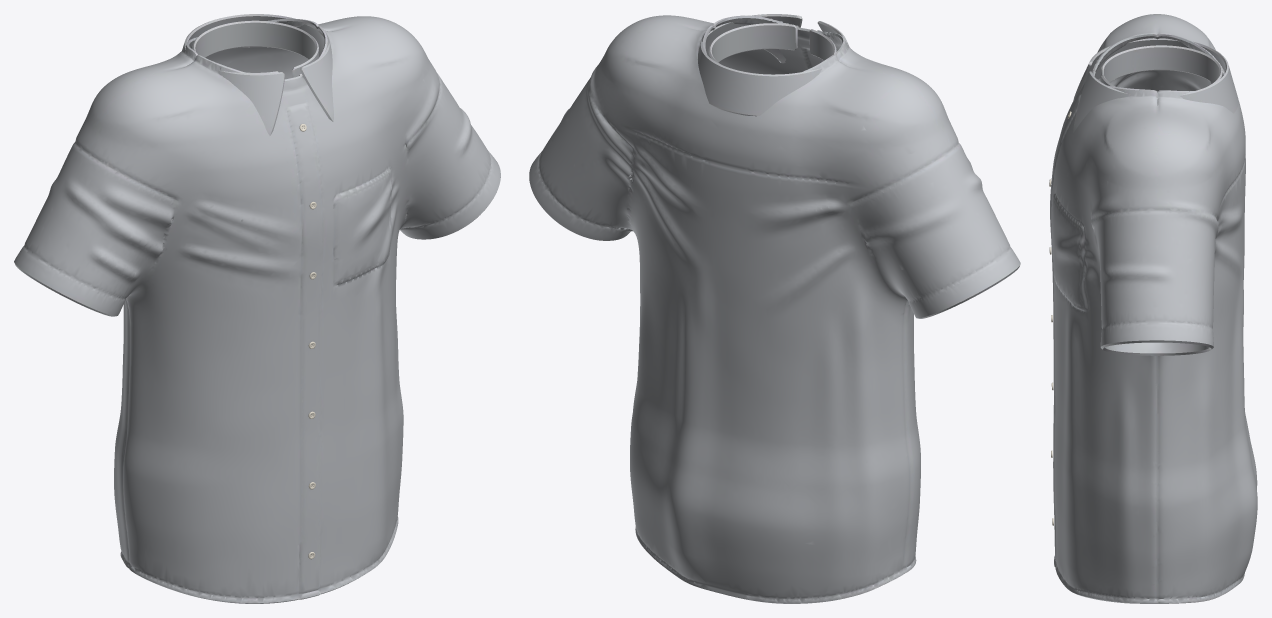
File: 08_camisa_manga_corta_pbr.glb
3 renders of one model, left to right at view 1: azimuth 30°, elevation 25°; view 2: azimuth 150°, elevation 25°; view 3: azimuth 270°, elevation 25°, orthographic. The views are drawn at different scales.
Parts seen in each view (by area): view 1: Camiseta PBR; view 2: Camiseta PBR; view 3: Camiseta PBR.
Part boxes in pixels (x1,y1,x2,y2): Camiseta PBR: (14, 14, 500, 603); Camiseta PBR: (529, 14, 1020, 603); Camiseta PBR: (1050, 14, 1257, 603).
Size of the model in its own units: 0.7166 by 0.7593 by 0.2859.
Materials: 2 (1 with a texture image).
